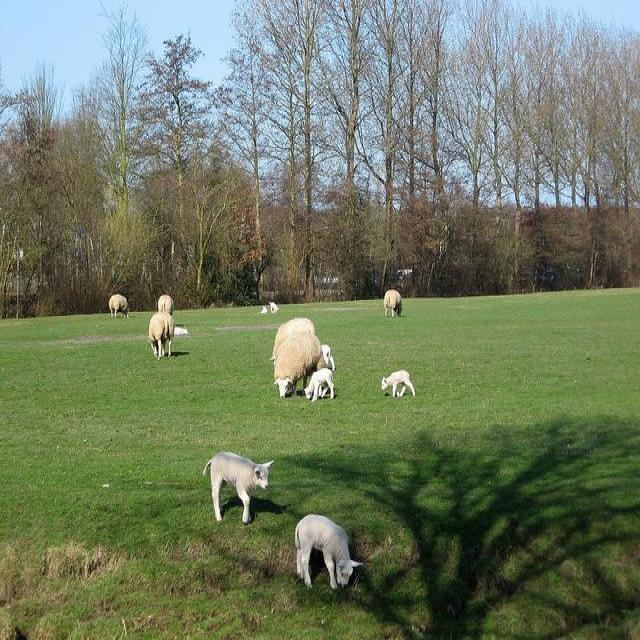Sheep: (294, 511, 364, 596), (201, 452, 274, 527), (273, 332, 330, 400), (272, 318, 316, 362)
